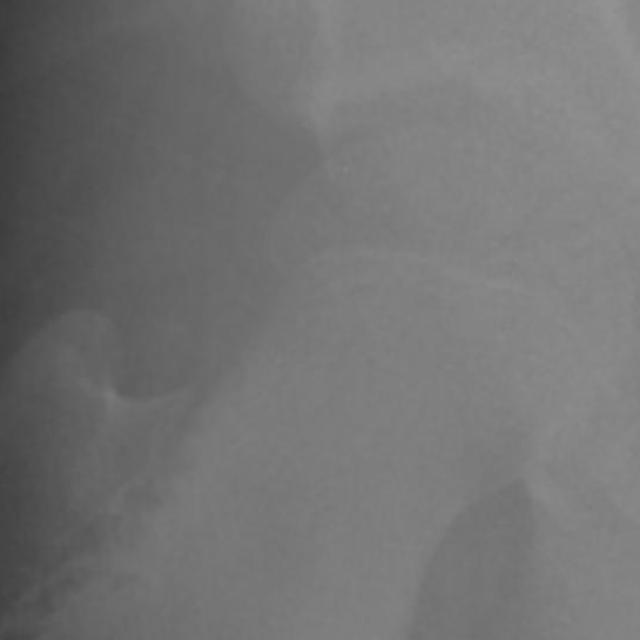Fitted_femural_head: (405, 119, 432, 405)
